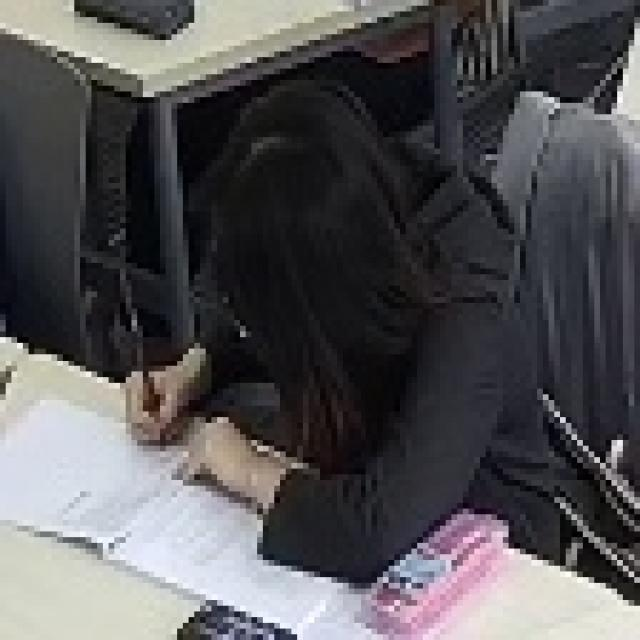write: (123, 74, 566, 576)
